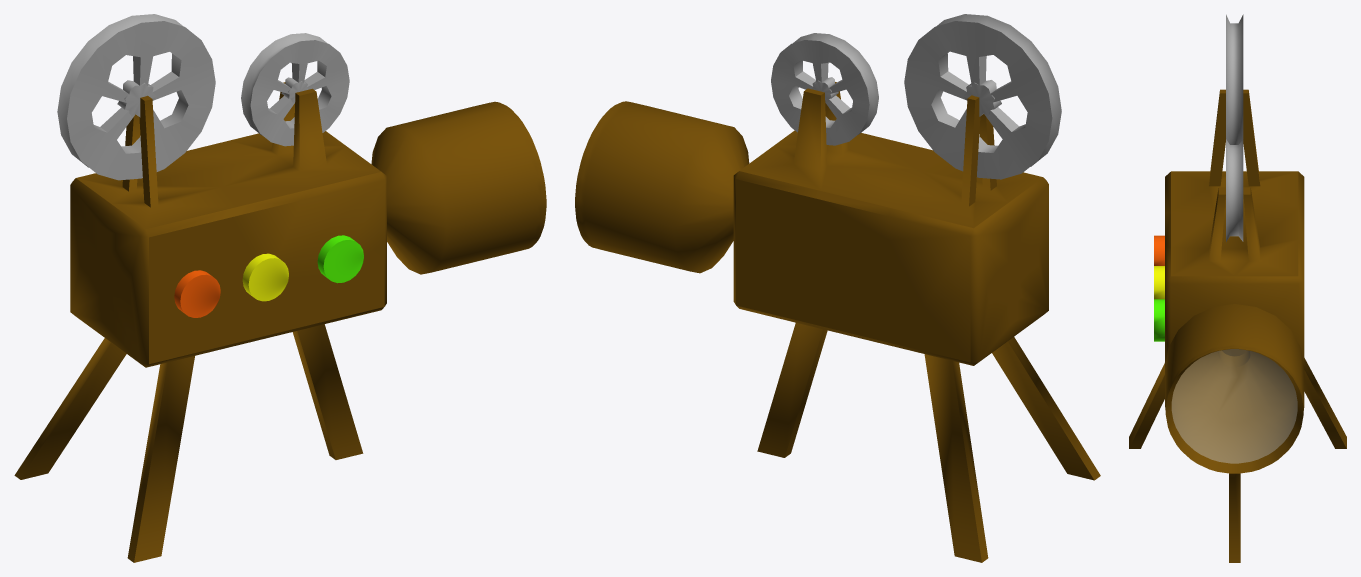
The model's file is projector.fbx.
3 views of the same model, side by side, from view 1: azimuth 30°, elevation 25°; view 2: azimuth 150°, elevation 25°; view 3: azimuth 270°, elevation 25° (orthographic). The views are drawn at different scales.
Parts seen in each view (by area): view 1: Projecter, FilmWheel1, FilmWheel2; view 2: Projecter, FilmWheel1, FilmWheel2; view 3: Projecter, FilmWheel1, FilmWheel2.
Part boxes in pixels (x1,y1,x2,y2): Projecter: (14, 82, 546, 562); FilmWheel1: (57, 14, 215, 180); FilmWheel2: (241, 33, 349, 146); Projecter: (575, 82, 1100, 562); FilmWheel1: (904, 14, 1061, 179); FilmWheel2: (771, 33, 878, 145); Projecter: (1129, 89, 1346, 562); FilmWheel1: (1226, 14, 1243, 144); FilmWheel2: (1226, 139, 1243, 241).
Size of the model in its own units: 6.75 by 7.03 by 3.13.
